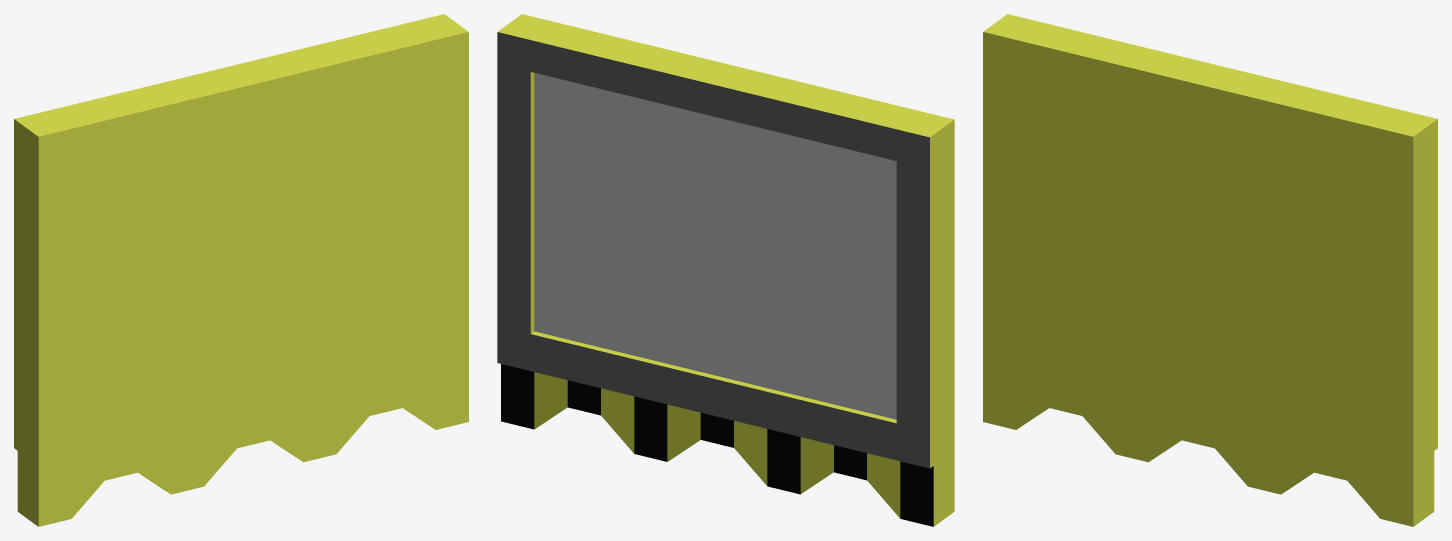
File: MainMenuDoor.glb
The picture shows the model from 3 angles, left to right: view 1: azimuth 30°, elevation 25°; view 2: azimuth 150°, elevation 25°; view 3: azimuth 330°, elevation 25°; orthographic projection.
Parts seen in each view (by area): view 1: Cube.001; view 2: Cube.001; view 3: Cube.001.
Part boxes in pixels (x1,y1,x2,y2): Cube.001: (14,14,468,526); Cube.001: (497,14,954,526); Cube.001: (983,14,1437,526).
Size of the model in its own units: 11.33 by 9.82 by 1.11.
